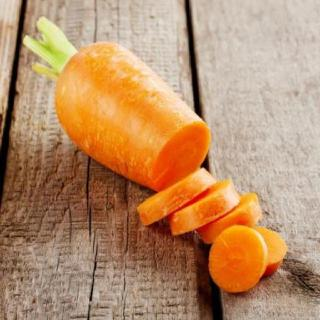carrot: (21, 17, 211, 190)
